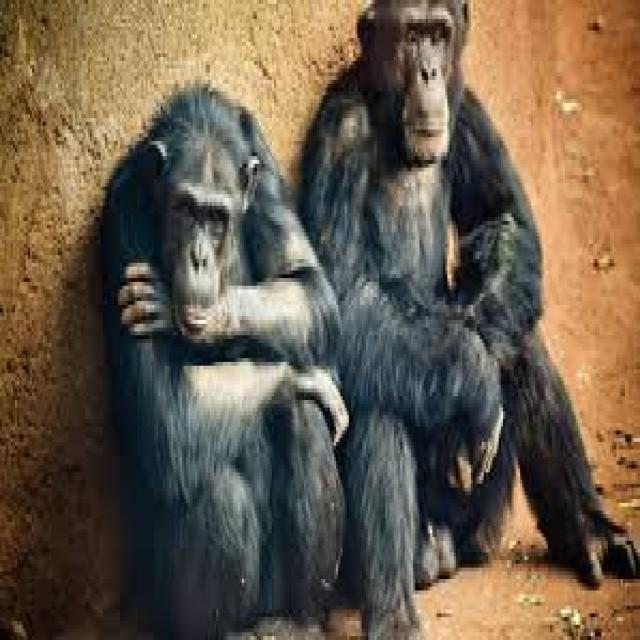Chimpanzee: (338, 0, 542, 640), (94, 83, 336, 620)
